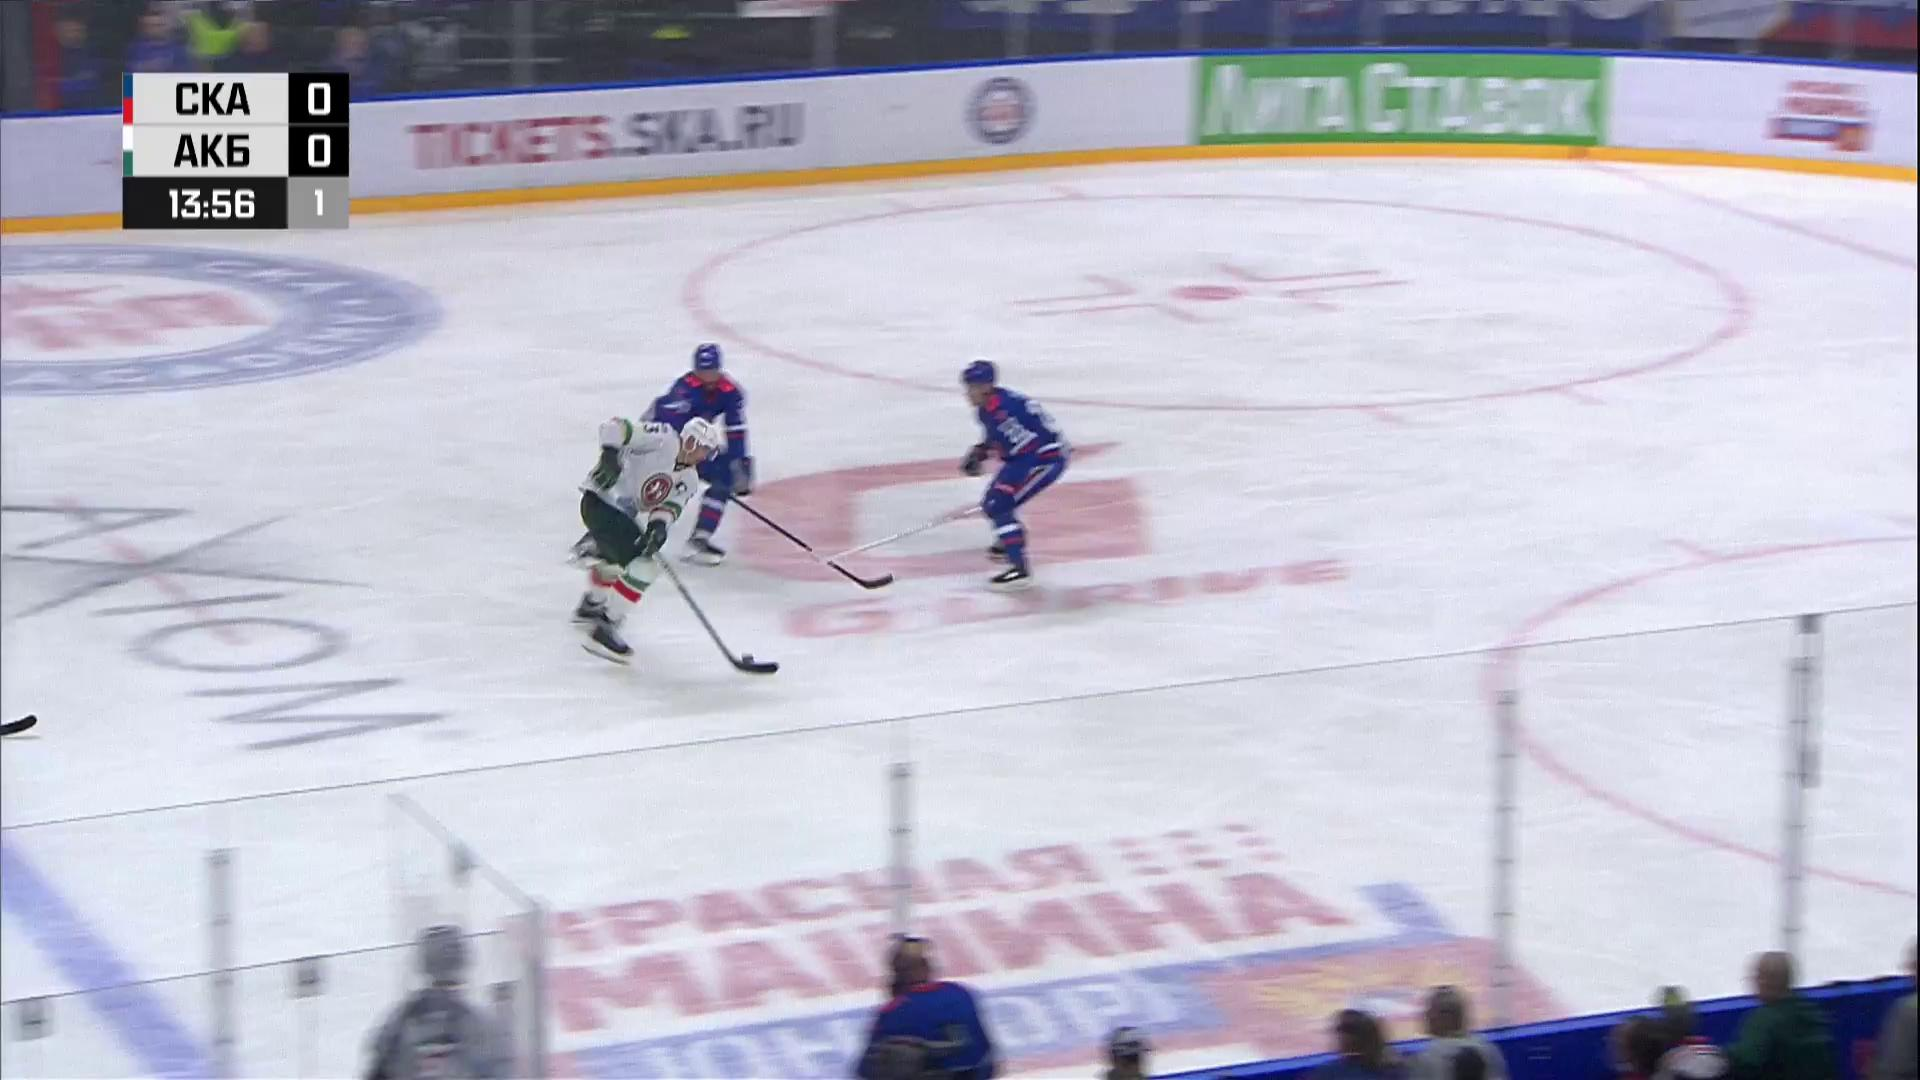ball: (742, 655, 754, 663)
